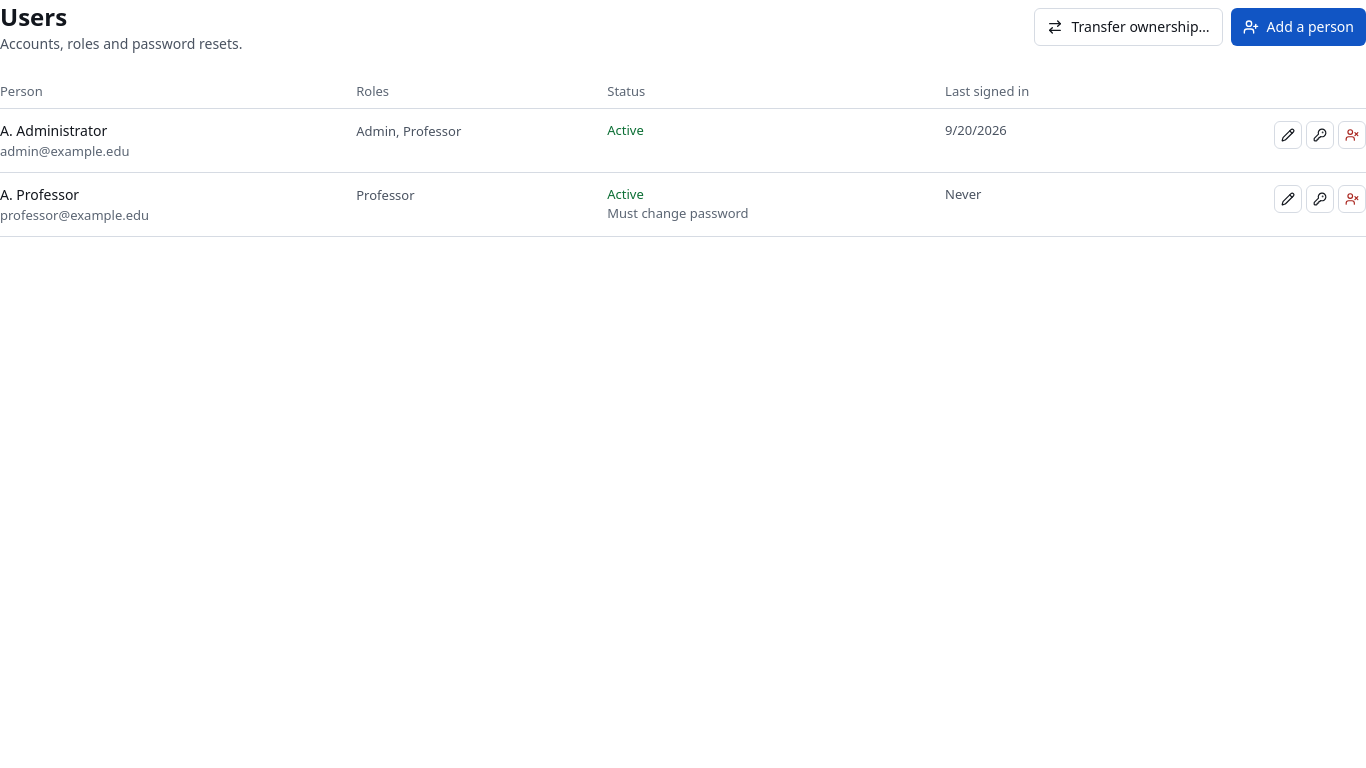
Test: Transfer ownership… › an empty preview cannot be confirmed
The image size is (1366, 768).
Click the button "Transfer ownership…". click: point(1129, 27)
box: [1034,8,1223,46]
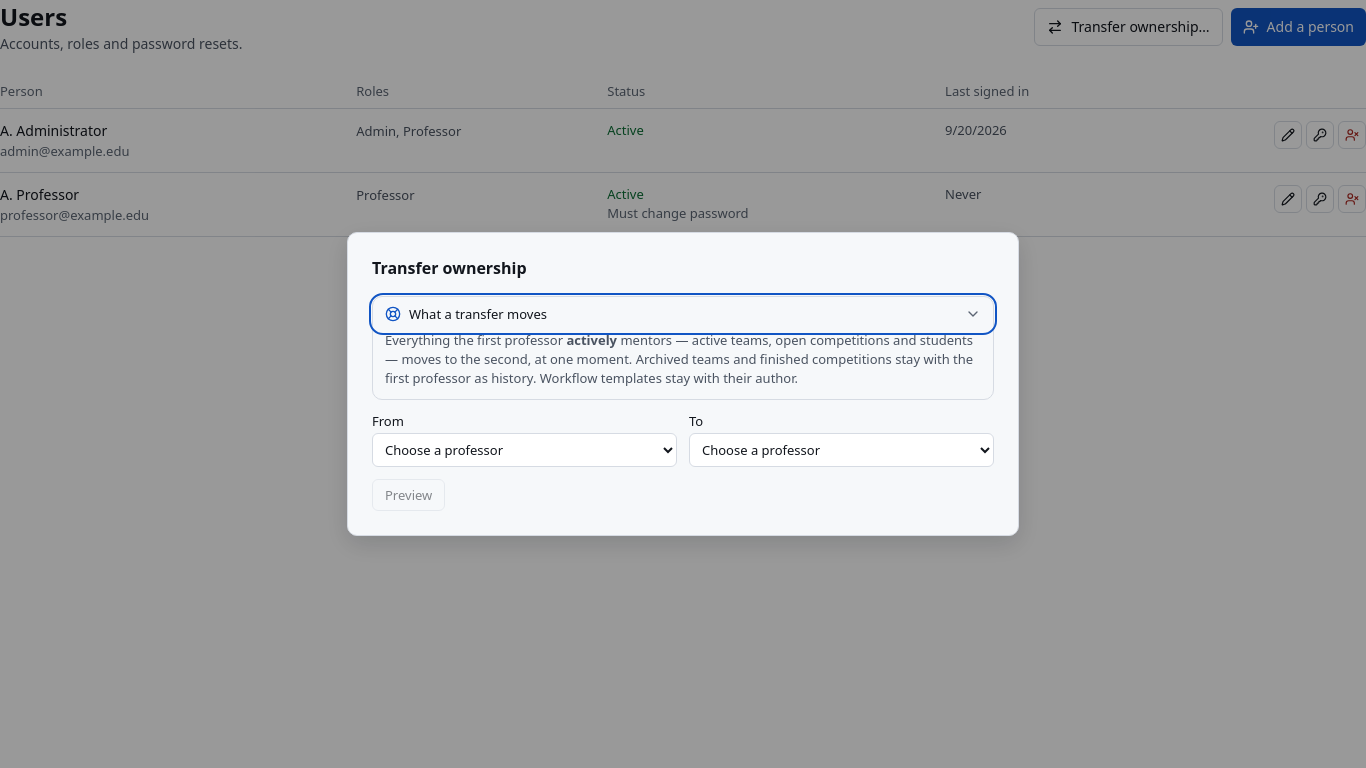
Select "A. Professor" in the dropdown labelled "From". click: point(524, 450)
box: [372,433,677,467]
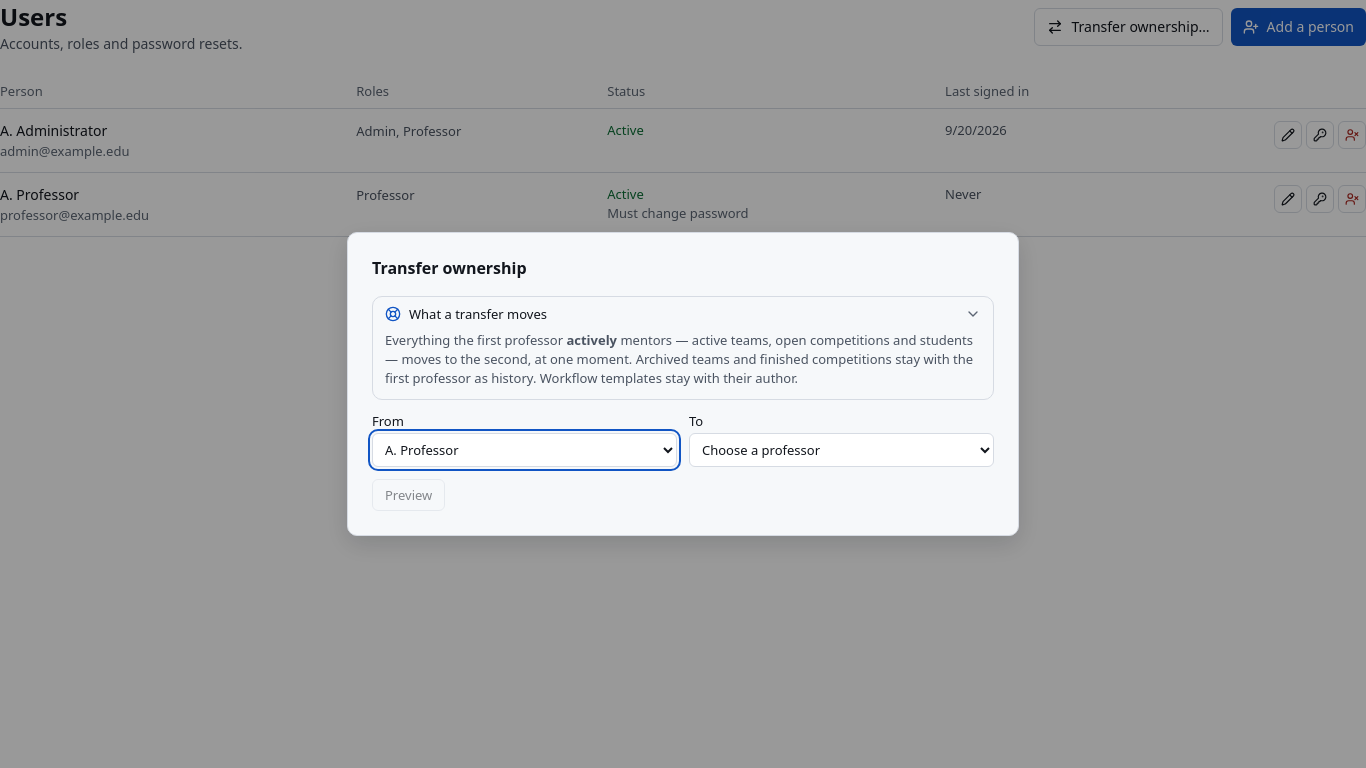
Select "A. Administrator" in the dropdown labelled "To". click: point(842, 450)
box: [689,433,994,467]
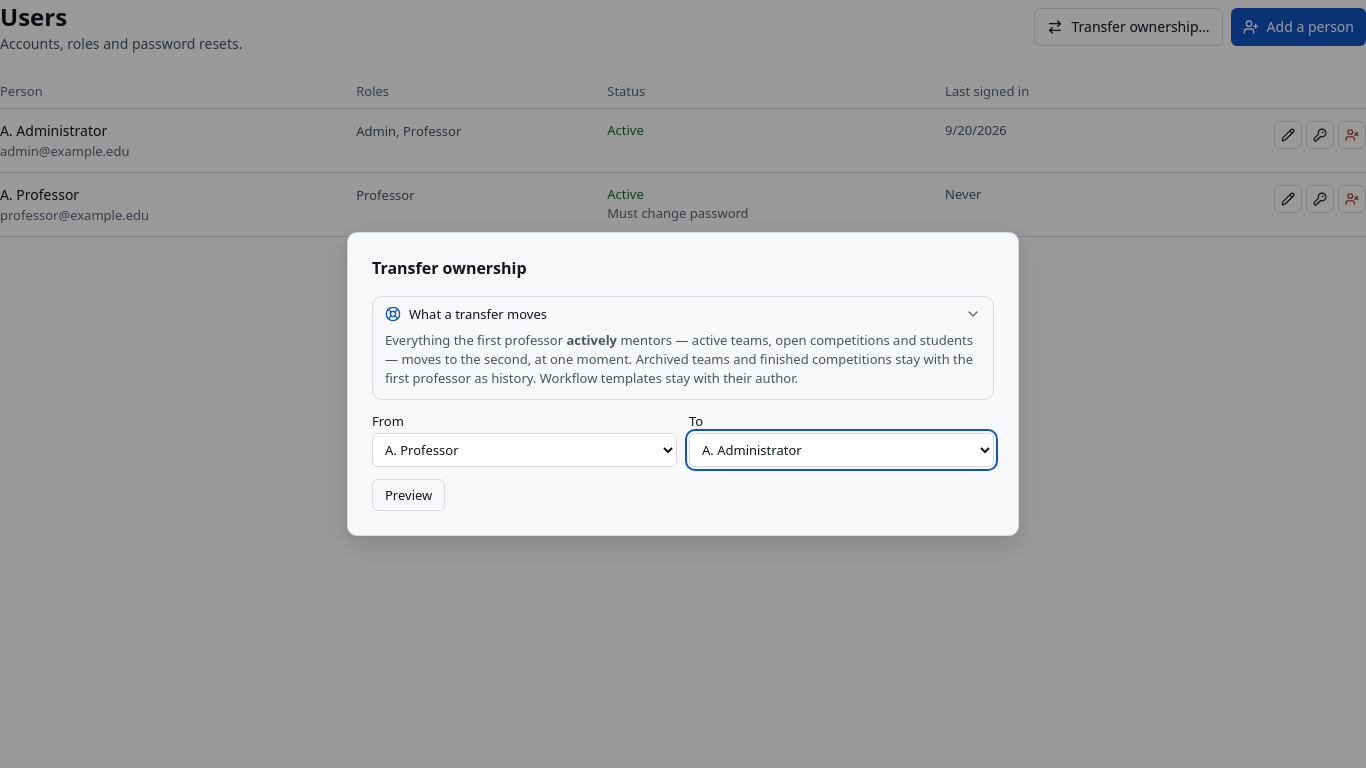
Click the button "Preview". click: point(409, 495)
box: [372,479,445,511]
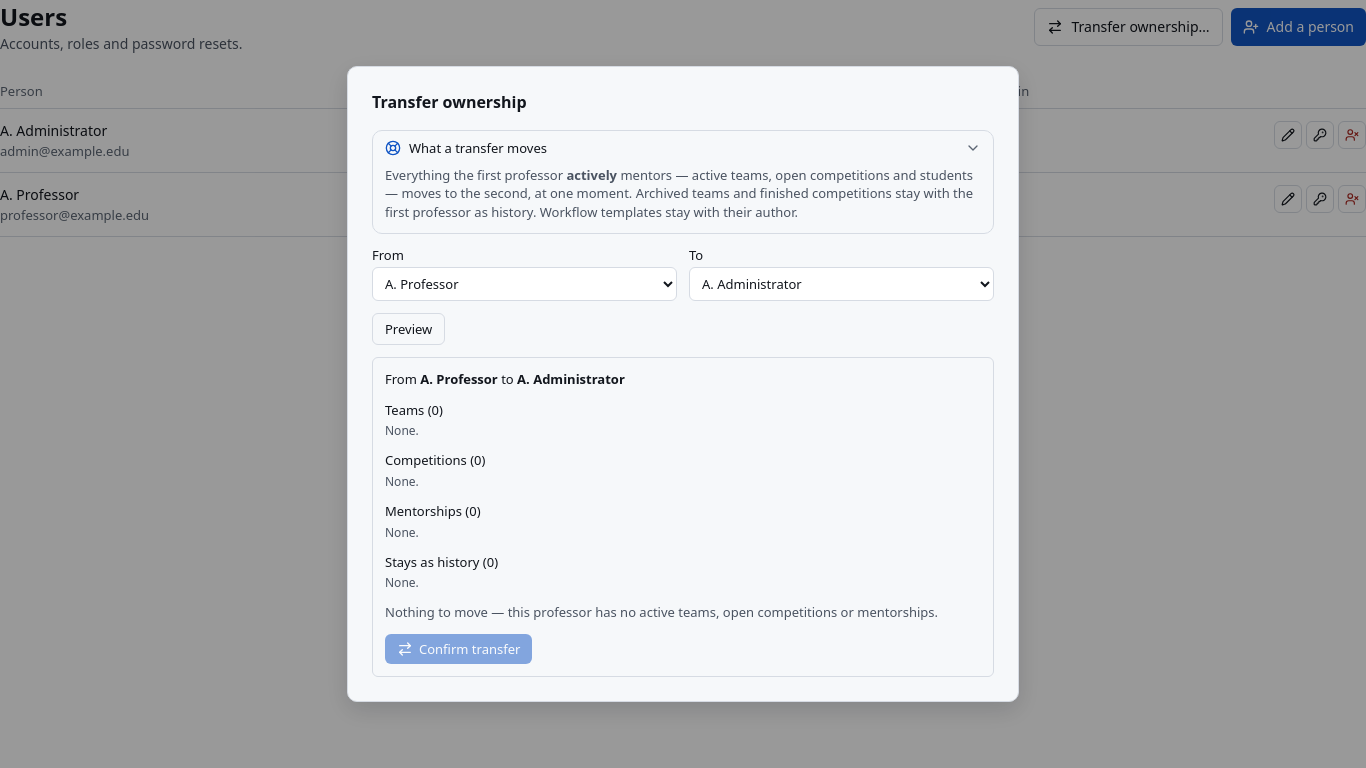
Now the text "Nothing to move" is shown, box [385,603,938,621]
Now the button "Confirm transfer" is disabled, box [385,634,532,664]
